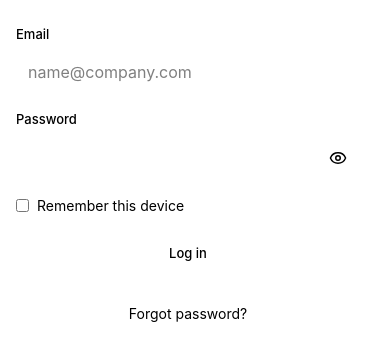
Login › keeps email login and rejects the alias with localhost/$configuredEmail
Type "admin" into the field labelled "Email".
click(188, 72); type("admin")  # box left=16, top=50, right=360, bottom=94
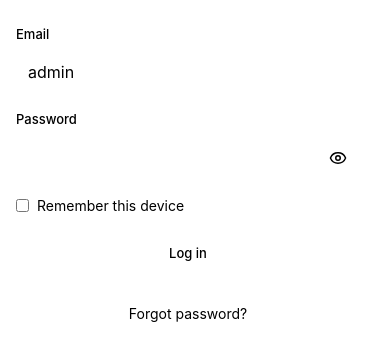
Type "admin" into the password field labelled "Password".
click(188, 158); type("admin")  # box left=16, top=136, right=360, bottom=180
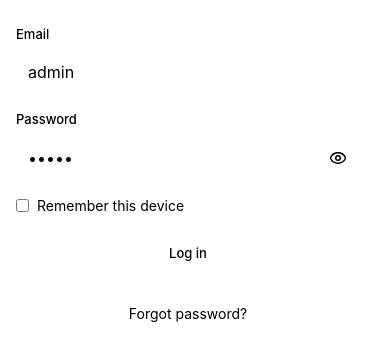
Submit the form "Email Password Remember this device Log in Forgot password?"
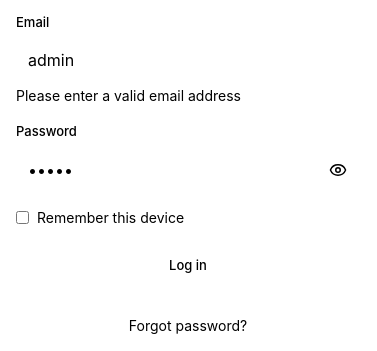
Result: the text "Please enter a valid email address" is shown at left=16, top=87, right=241, bottom=104
